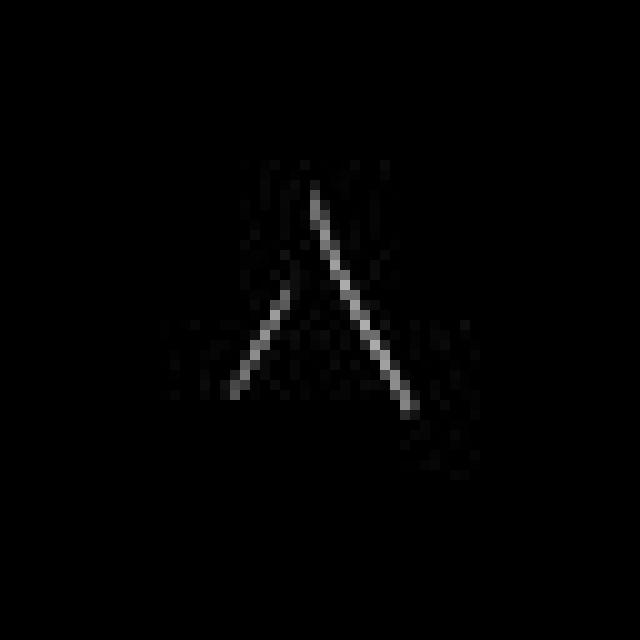8 -eight-: (206, 186, 430, 432)
